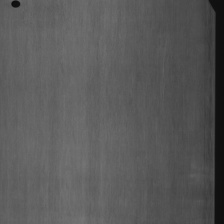punching_hole: (206, 0, 216, 19), (10, 0, 21, 8)
